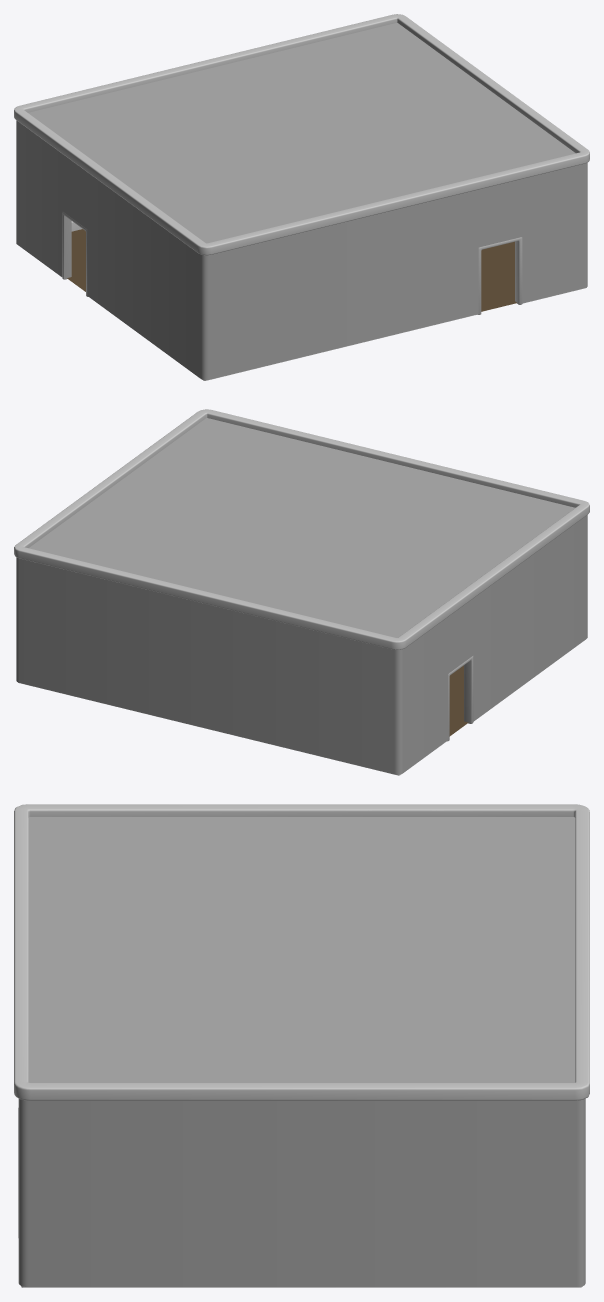
The model's file is SM_room_04.fbx.
3 views of the same model, one above another, from view 1: azimuth 30°, elevation 25°; view 2: azimuth 150°, elevation 25°; view 3: azimuth 270°, elevation 25° (orthographic). The views are drawn at different scales.
Visible parts, largest first — view 1: Object079; view 2: Object079; view 3: Object079.
Boxes of the visible parts, x1,y1,x2,y2 form: Object079: (14, 14, 589, 380); Object079: (14, 409, 589, 775); Object079: (14, 804, 589, 1287).
Size of the model in its own units: 507 by 168 by 433.
